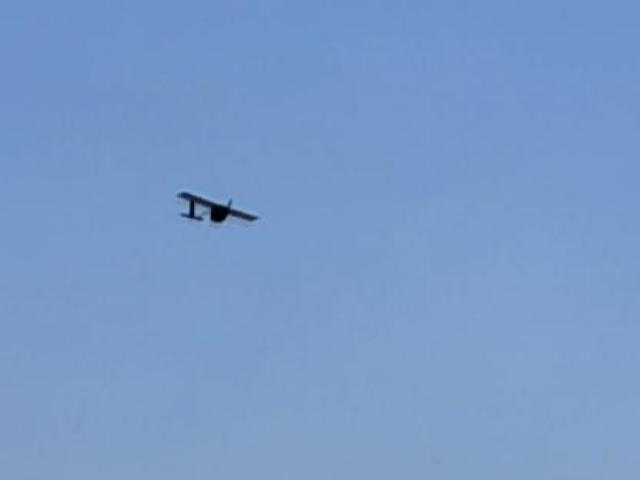uav: (172, 185, 260, 227)
